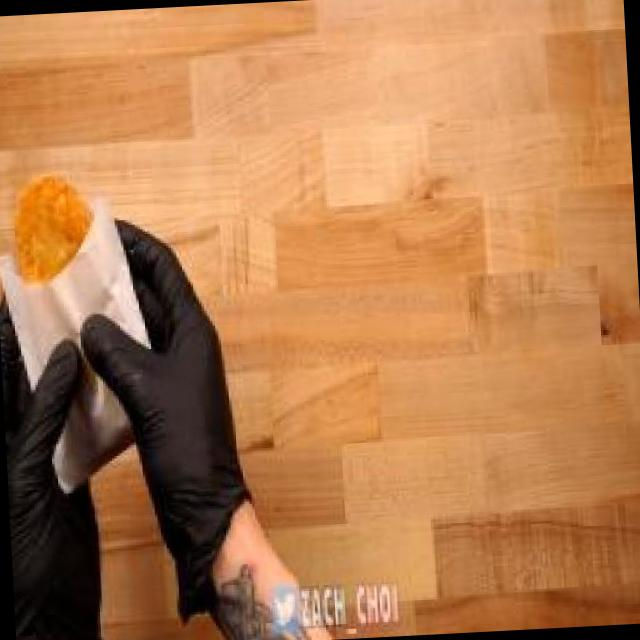Hashbrown: (2, 164, 103, 294)
